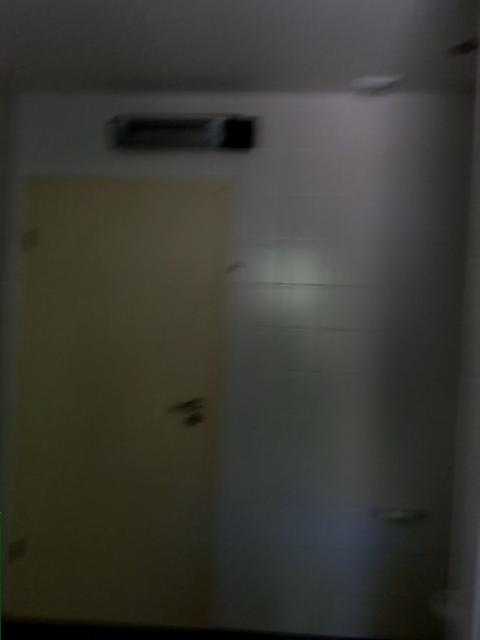closed_door: (10, 176, 232, 638)
